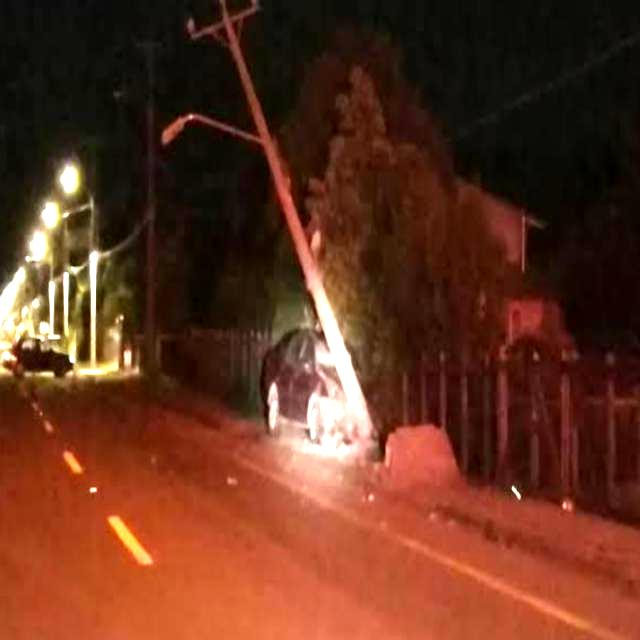Broken Pole: (183, 0, 375, 441)
